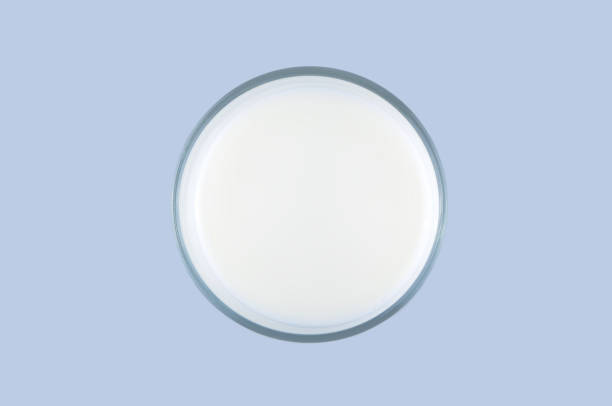glass of milk: (161, 53, 458, 347)
